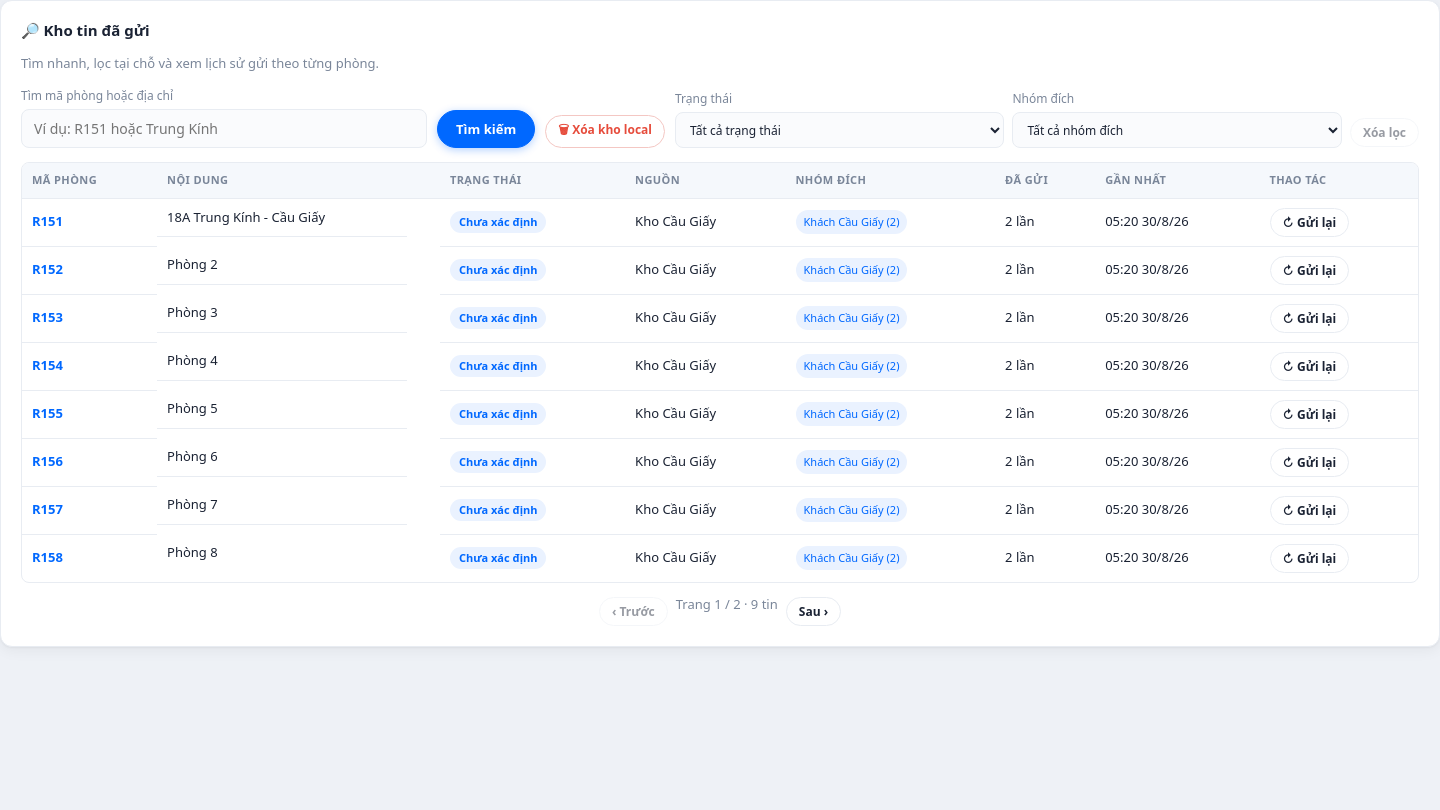
SentRoomSearch › xóa kho local sau khi người dùng xác nhận
The image size is (1440, 810).
Expected: the text "R151" is shown, [32, 212, 63, 230]
Click the button "🗑 Xóa kho local": (605, 132) [545, 115, 665, 148]
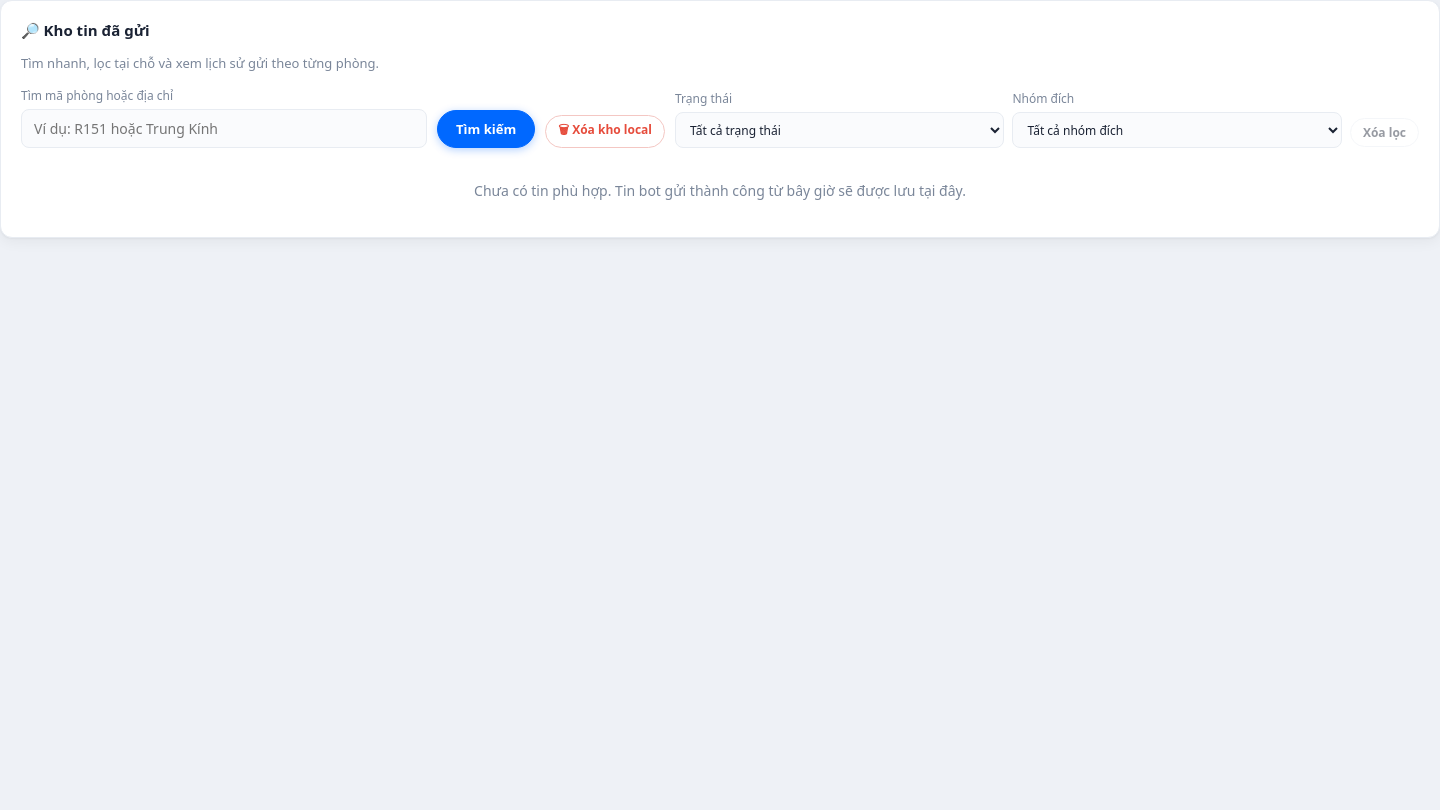
Now the text "Chưa có tin phù hợp" is shown, box [474, 181, 966, 200]
